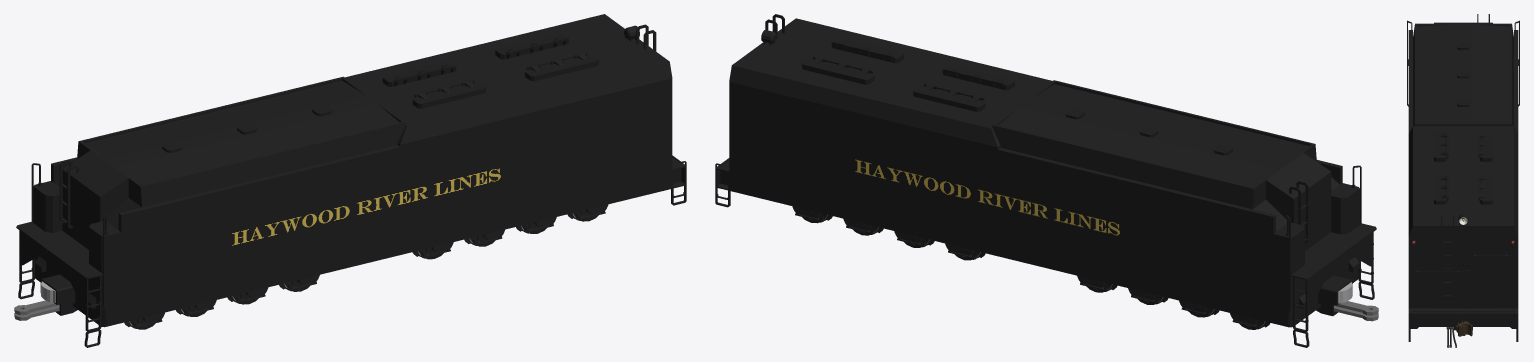
File: irw_tender.obj
The picture shows the model from 3 angles, left to right: view 1: azimuth 30°, elevation 25°; view 2: azimuth 150°, elevation 25°; view 3: azimuth 270°, elevation 25°; orthographic projection. The views are drawn at different scales.
Visible parts, largest first — view 1: FRAME, BOGEY_REAR, BOGEY_FRONT; view 2: FRAME, BOGEY_REAR, BOGEY_FRONT; view 3: FRAME.
Part boxes in pixels (x1=…): FRAME: x1=14, y1=14, x2=686, y2=347; BOGEY_REAR: x1=412, y1=204, x2=608, y2=257; BOGEY_FRONT: x1=124, y1=275, x2=319, y2=328; FRAME: x1=715, y1=14, x2=1378, y2=347; BOGEY_REAR: x1=792, y1=206, x2=985, y2=259; BOGEY_FRONT: x1=1077, y1=275, x2=1270, y2=328; FRAME: x1=1407, y1=14, x2=1519, y2=347.
Bounding box in the file's own units: 17.34 × 4.41 × 3.34.
